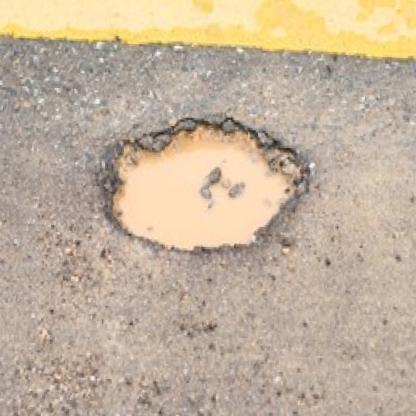pothole: (94, 109, 320, 260)
